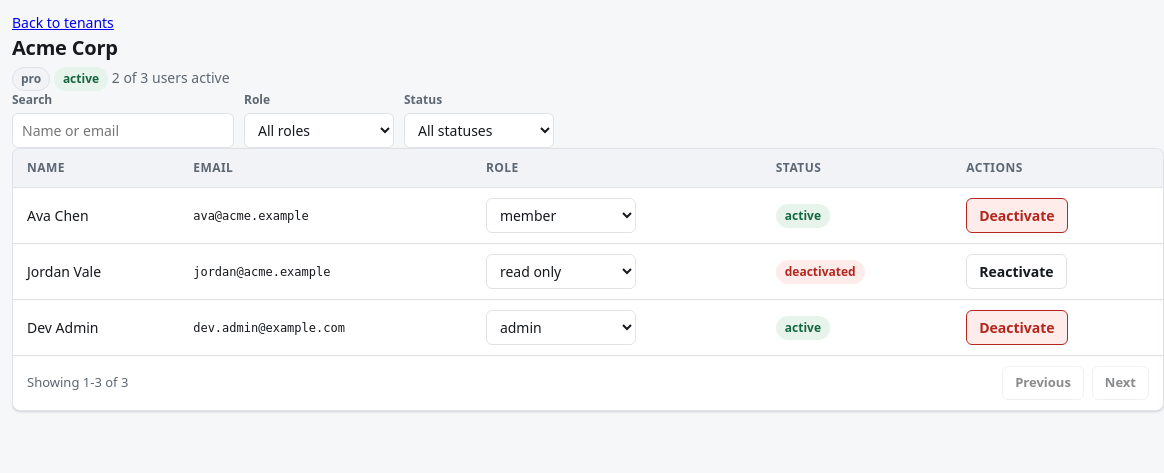
Test: TenantDetailPage › reports a rejected role change
The image size is (1164, 473).
expect the text "ava@acme.example" is shown: met, box [179,188,472,244]
Step 1. Select "admin" in the dropdown named "Role for Ava Chen" → [561, 216], box [486,198,636,233]
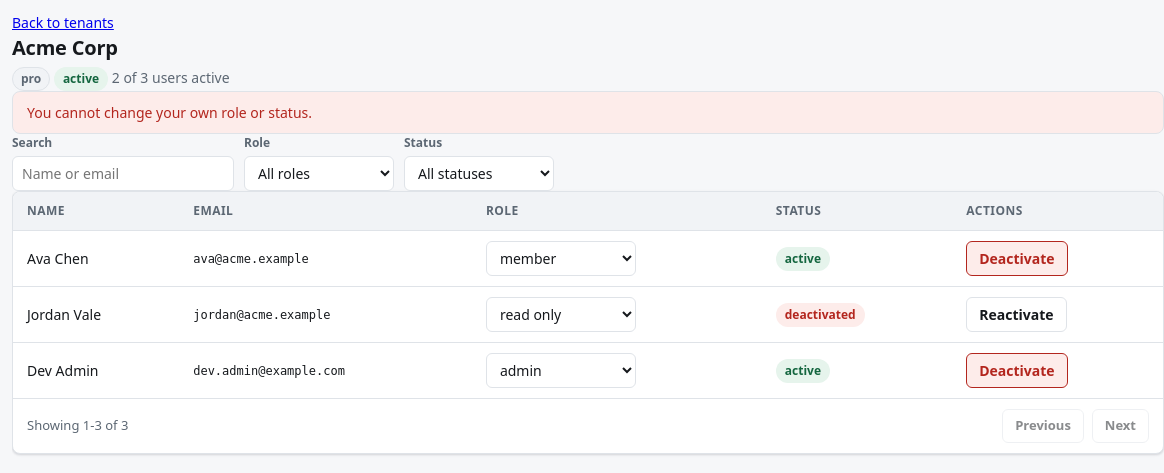
expect the message reads "You cannot change your own role or status.": met, box [27,103,312,122]
